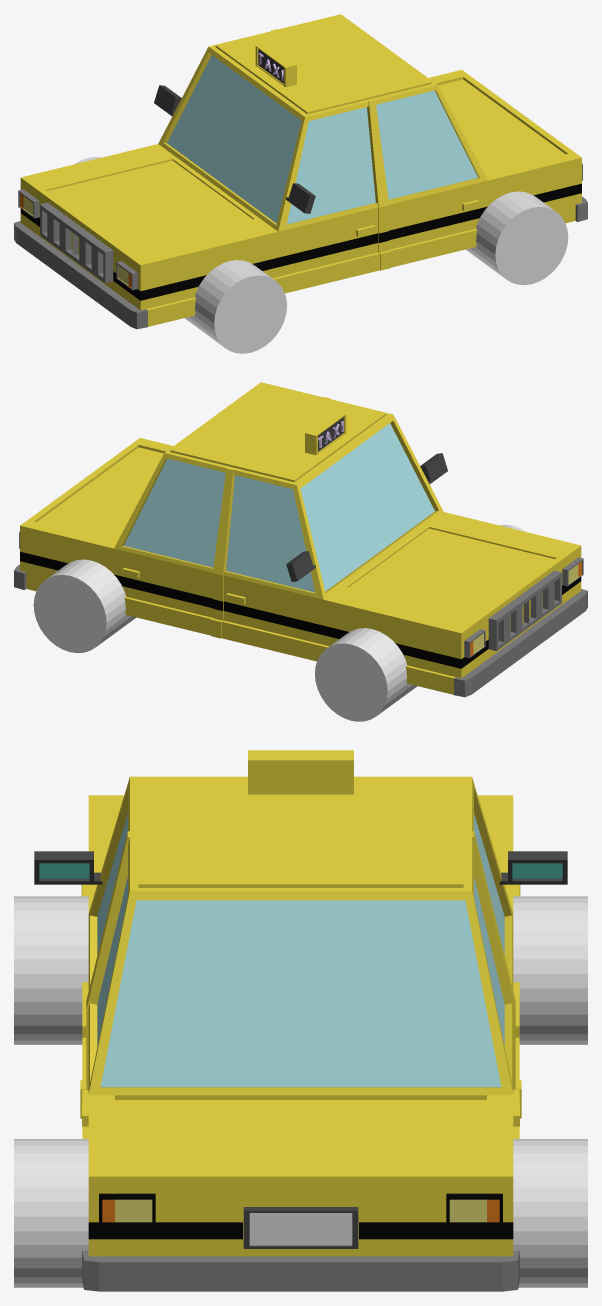
File: taxi.fbx
3 views of the same model, one above another, from view 1: azimuth 30°, elevation 25°; view 2: azimuth 150°, elevation 25°; view 3: azimuth 270°, elevation 25° (orthographic). The views are drawn at different scales.
Parts seen in each view (by area): view 1: Cube.002, Cylinder, Cylinder.001, Cylinder.002, Cube.004; view 2: Cube.002, Cylinder, Cylinder.001, Cylinder.002, Cube.004; view 3: Cube.002, Cylinder.001, Cylinder, Cube.003, Cube.004, Cylinder.002.
Part boxes in pixels (bbox=[...]): Cube.002: bbox=[14, 14, 587, 329]; Cylinder: bbox=[74, 156, 286, 353]; Cylinder.001: bbox=[465, 191, 568, 285]; Cylinder.002: bbox=[154, 85, 315, 213]; Cube.004: bbox=[255, 43, 296, 87]; Cube.002: bbox=[14, 382, 587, 697]; Cylinder: bbox=[315, 524, 527, 721]; Cylinder.001: bbox=[33, 559, 136, 653]; Cylinder.002: bbox=[286, 453, 447, 581]; Cube.004: bbox=[305, 411, 346, 455]; Cube.002: bbox=[80, 776, 521, 1291]; Cylinder.001: bbox=[14, 1139, 587, 1287]; Cylinder: bbox=[14, 896, 587, 1044]; Cube.003: bbox=[243, 1207, 358, 1248]; Cube.004: bbox=[248, 750, 353, 794]; Cylinder.002: bbox=[34, 851, 567, 884].
Bounding box in the file's own units: 770 × 342 × 474.
